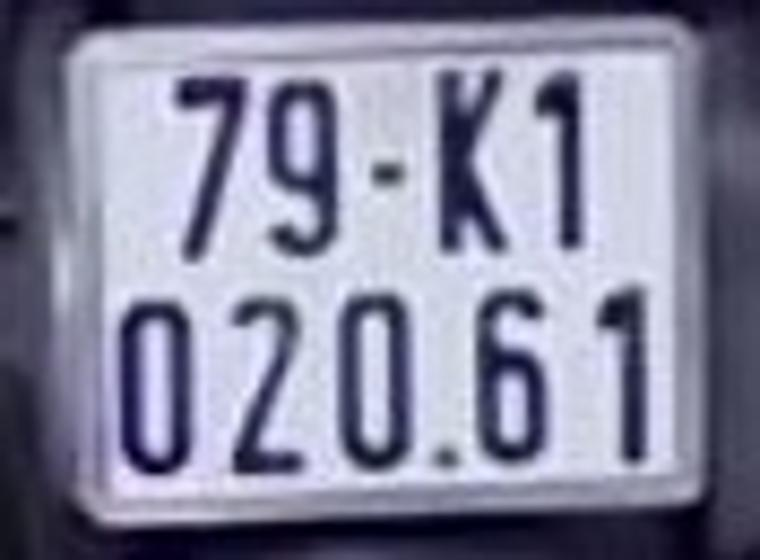-: (364, 162, 407, 184)
.: (433, 444, 453, 470)
0: (117, 301, 197, 474), (335, 291, 413, 467)
1: (529, 67, 579, 249), (603, 279, 649, 464)
2: (228, 299, 301, 476)
6: (465, 286, 550, 459)
7: (170, 78, 248, 269)
9: (263, 82, 341, 262)
K: (436, 67, 509, 263)
